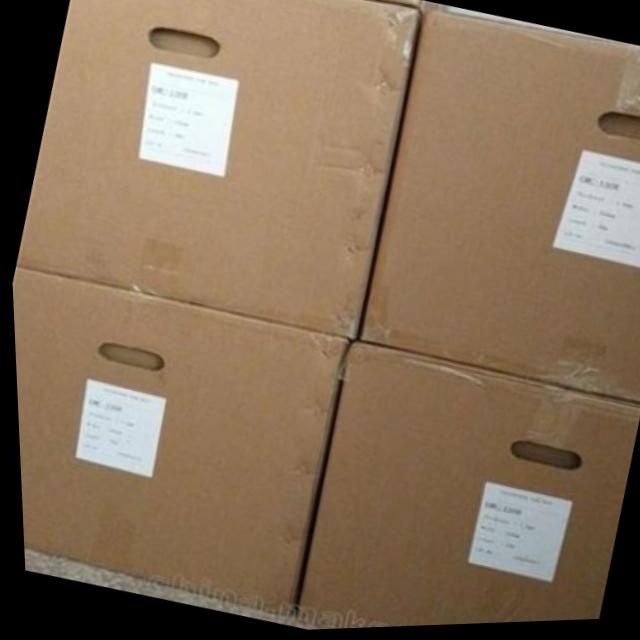box: (12, 0, 425, 340), (10, 268, 346, 617), (356, 17, 640, 410), (292, 347, 637, 631), (359, 0, 445, 15)
